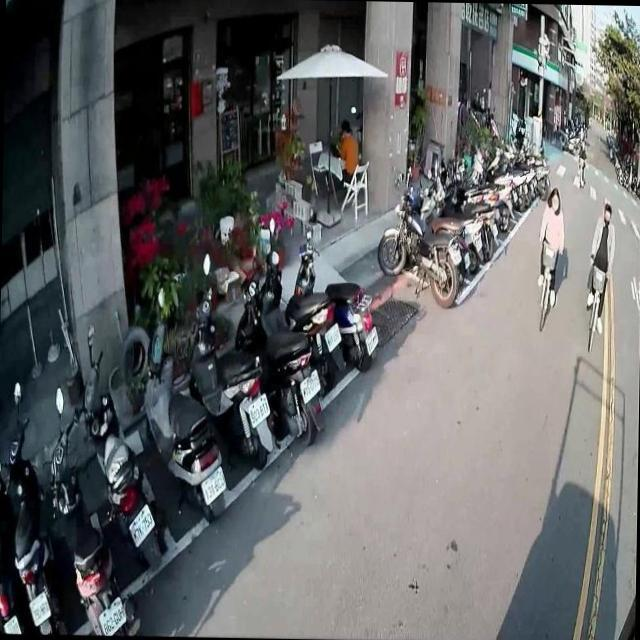person: (584, 198, 616, 332), (534, 184, 567, 308), (326, 110, 362, 201), (576, 138, 588, 182)
